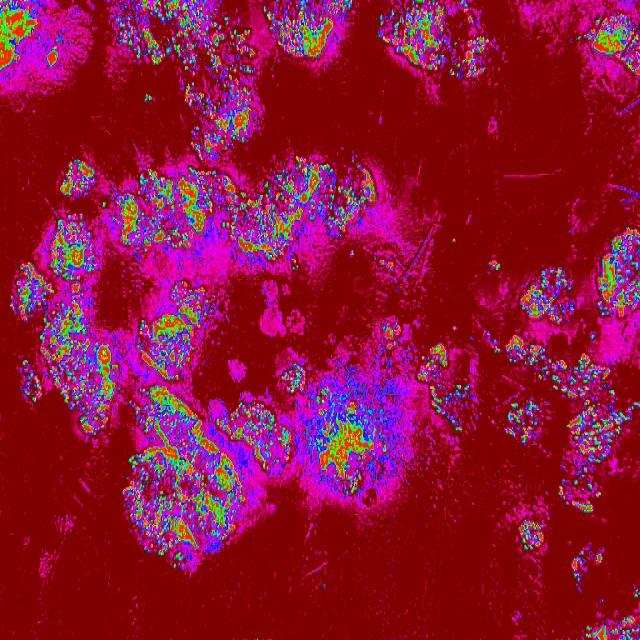fire: (122, 388, 286, 582), (10, 261, 119, 438), (240, 154, 378, 272), (287, 390, 412, 506), (110, 166, 240, 262), (556, 351, 630, 517), (112, 0, 256, 78), (375, 0, 493, 80), (134, 279, 217, 381), (178, 78, 256, 164), (262, 0, 353, 62), (418, 342, 478, 434), (594, 222, 640, 323), (588, 18, 640, 82), (0, 0, 42, 76), (521, 265, 577, 321), (504, 331, 556, 387), (44, 215, 96, 260), (567, 540, 608, 586), (504, 398, 540, 448), (586, 614, 640, 640), (62, 156, 94, 199), (515, 520, 546, 554), (284, 362, 310, 388), (477, 329, 502, 356), (382, 317, 404, 344), (45, 42, 59, 72), (379, 257, 396, 275), (572, 32, 588, 46), (141, 90, 153, 106), (487, 261, 502, 273), (631, 398, 640, 412), (631, 588, 640, 598), (449, 236, 458, 244), (101, 200, 107, 210), (590, 332, 596, 342)
